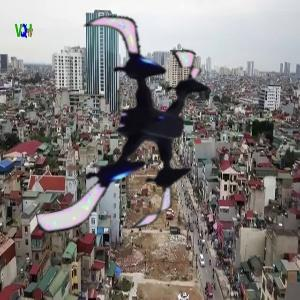drone: (19, 10, 243, 234)
